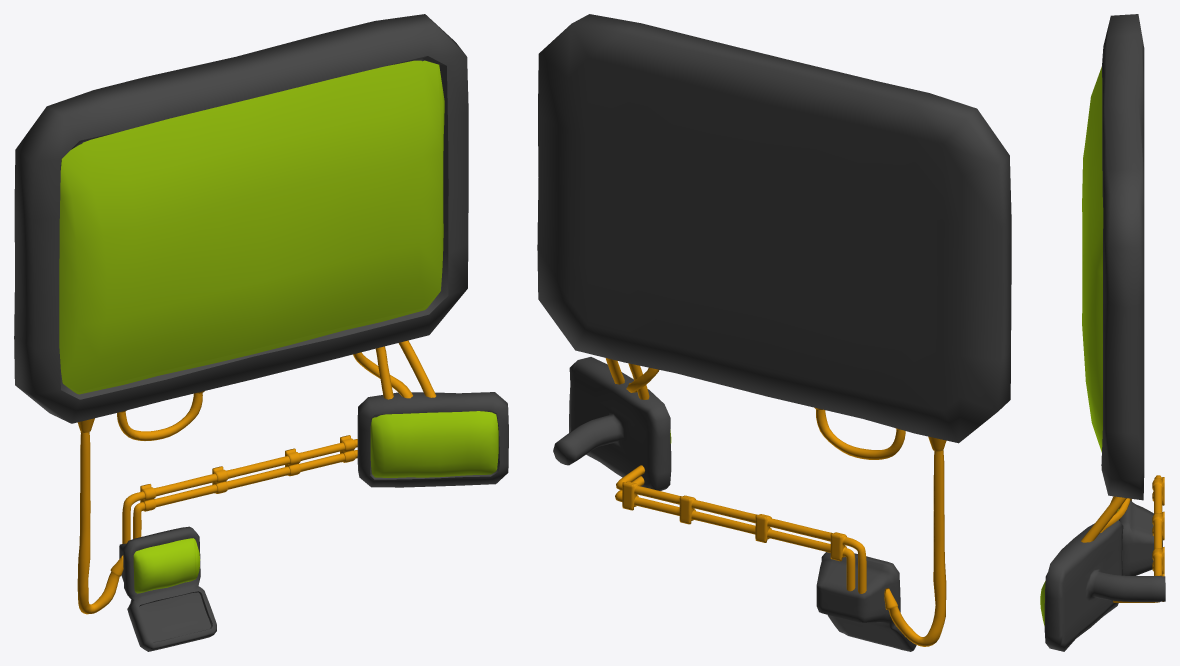
The model's file is fullPCNoTilt.fbx.
The picture shows the model from 3 angles, left to right: view 1: azimuth 30°, elevation 25°; view 2: azimuth 150°, elevation 25°; view 3: azimuth 270°, elevation 25°; orthographic projection. The views are drawn at different scales.
Visible parts, largest first — view 1: screenGlassNoTilt, screenNoTilt, smallScreenGlass, laptop_low, smallScreen_low, lowerWires, leftSideWires, laptopGlass, rightSideWires; view 2: screenNoTilt, smallScreen_low, lowerWires, laptop_low, leftSideWires, rightSideWires; view 3: screenNoTilt, smallScreen_low, screenGlassNoTilt, laptop_low, lowerWires, rightSideWires.
Boxes of the visible parts, bbox=[...] form: screenGlassNoTilt: bbox=[59, 60, 444, 394]; screenNoTilt: bbox=[14, 14, 468, 423]; smallScreenGlass: bbox=[370, 411, 498, 477]; laptop_low: bbox=[119, 526, 216, 651]; smallScreen_low: bbox=[357, 392, 508, 487]; lowerWires: bbox=[122, 435, 357, 543]; leftSideWires: bbox=[77, 391, 204, 614]; laptopGlass: bbox=[133, 538, 200, 593]; rightSideWires: bbox=[353, 340, 436, 399]; screenNoTilt: bbox=[537, 14, 1011, 443]; smallScreen_low: bbox=[553, 357, 671, 490]; lowerWires: bbox=[615, 465, 866, 593]; laptop_low: bbox=[816, 552, 916, 651]; leftSideWires: bbox=[814, 407, 946, 646]; rightSideWires: bbox=[605, 358, 659, 399]; screenNoTilt: bbox=[1101, 14, 1144, 500]; smallScreen_low: bbox=[1044, 520, 1165, 651]; screenGlassNoTilt: bbox=[1082, 66, 1103, 452]; laptop_low: bbox=[1119, 499, 1162, 575]; lowerWires: bbox=[1113, 475, 1164, 602]; rightSideWires: bbox=[1081, 496, 1130, 542].
Size of the model in its own units: 252 by 293 by 61.12.
